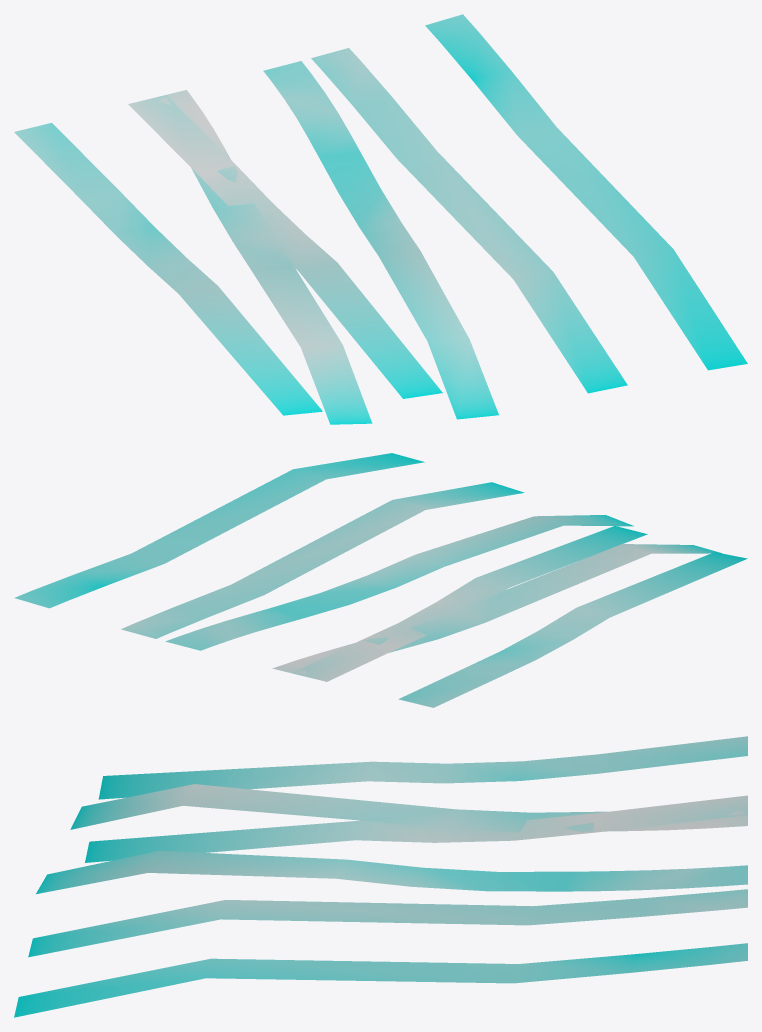
3 views of the same model, one above another, from view 1: azimuth 30°, elevation 25°; view 2: azimuth 150°, elevation 25°; view 3: azimuth 270°, elevation 25° (orthographic). The views are drawn at different scales.
Visible parts, largest first — view 1: SpaceCenter_Long3_GenerateRoad_Sand_TireTracks_Narrow_Mesh_x; view 2: SpaceCenter_Long3_GenerateRoad_Sand_TireTracks_Narrow_Mesh_x; view 3: SpaceCenter_Long3_GenerateRoad_Sand_TireTracks_Narrow_Mesh_x.
Part boxes in pixels (left/top/right/bottom): SpaceCenter_Long3_GenerateRoad_Sand_TireTracks_Narrow_Mesh_x: left=14, top=14, right=747, bottom=424; SpaceCenter_Long3_GenerateRoad_Sand_TireTracks_Narrow_Mesh_x: left=14, top=453, right=747, bottom=707; SpaceCenter_Long3_GenerateRoad_Sand_TireTracks_Narrow_Mesh_x: left=14, top=736, right=747, bottom=1017.
Bounding box in the file's own units: 340 × 274 × 45.2.
